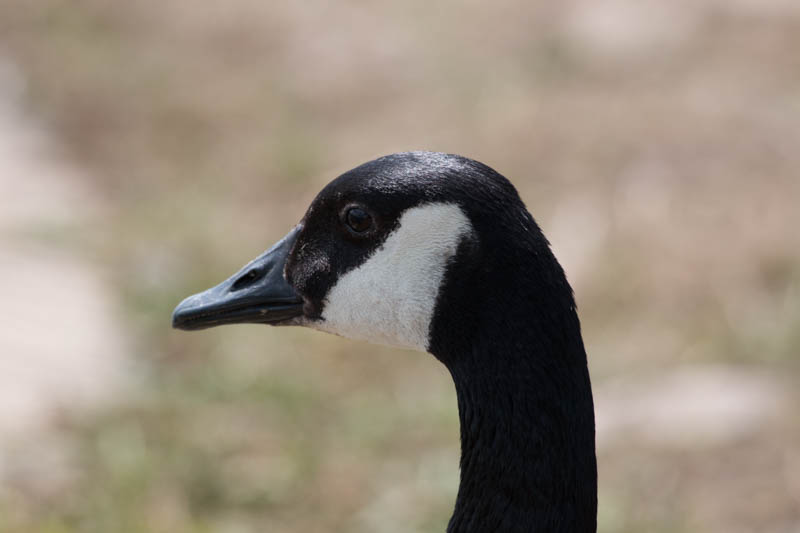goose-head: (170, 150, 549, 355)
